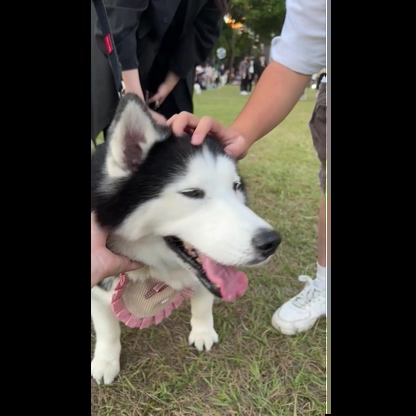husky: (95, 87, 285, 387)
